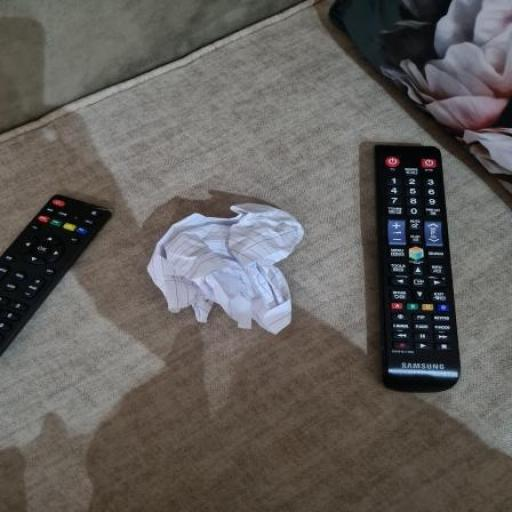paper: (151, 203, 305, 335)
